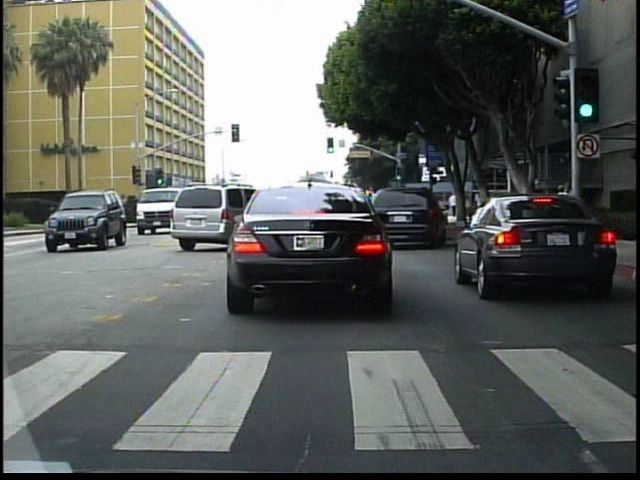person: (564, 175, 583, 236), (447, 188, 458, 220)
